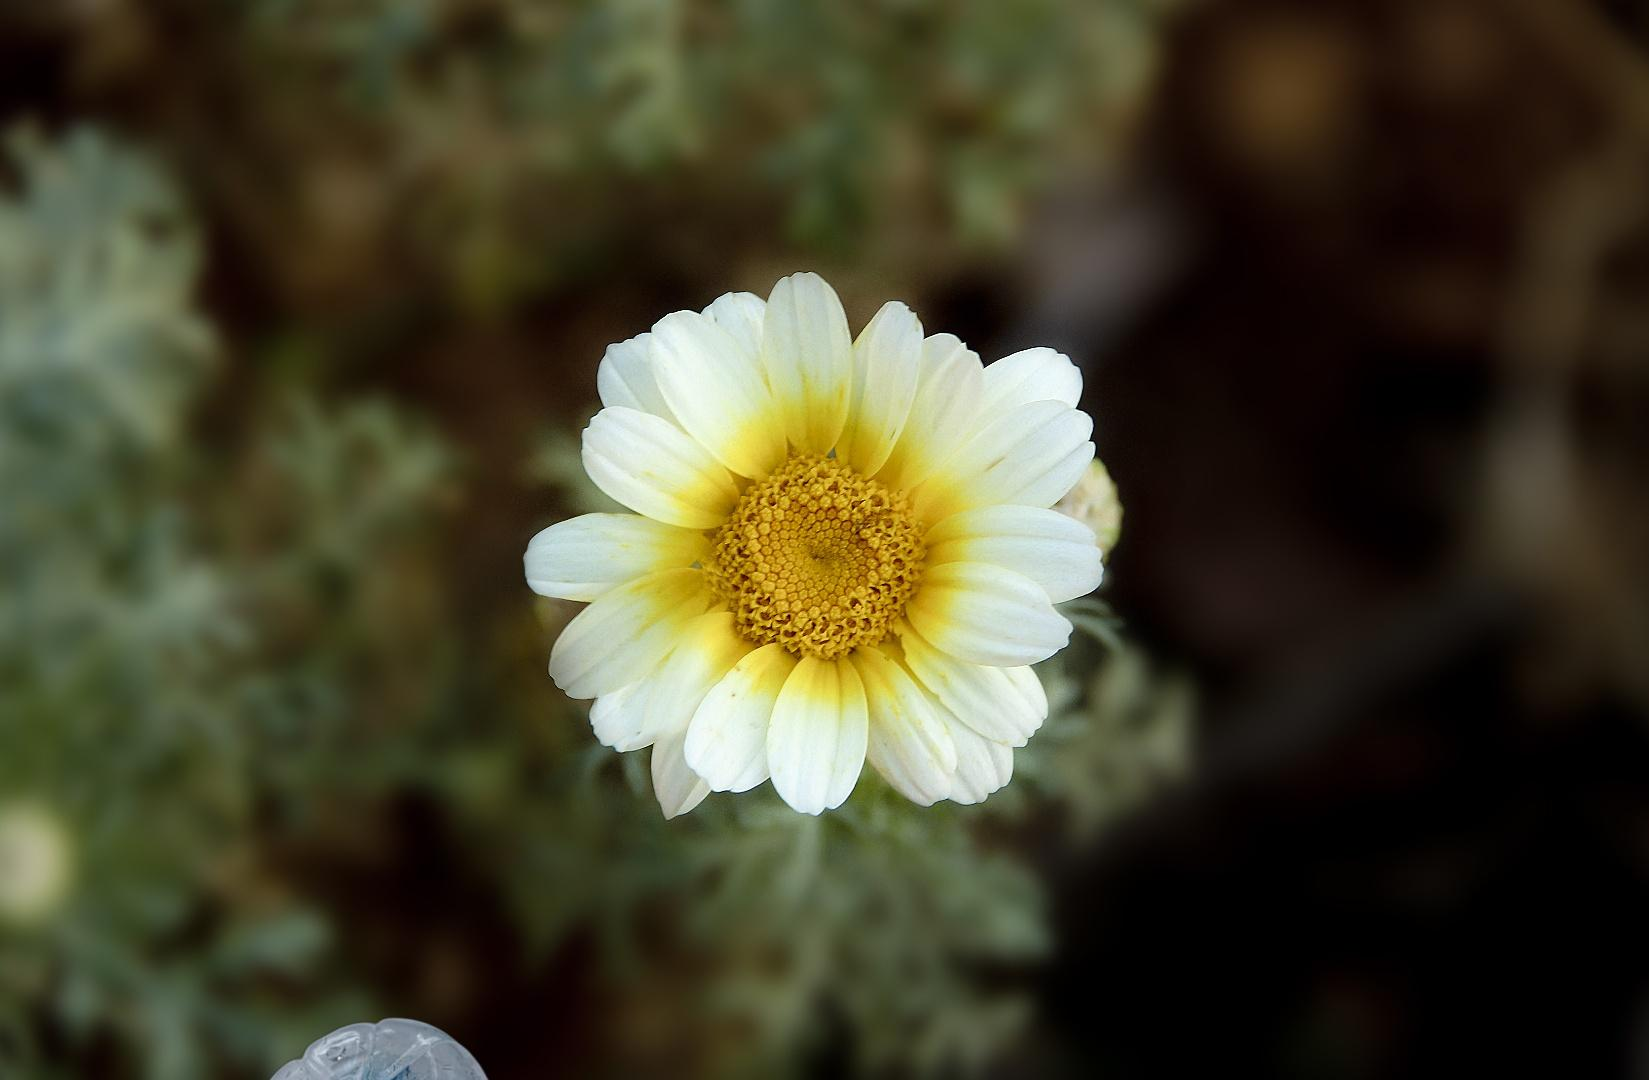plastic-bottles: (242, 1014, 564, 1080)
